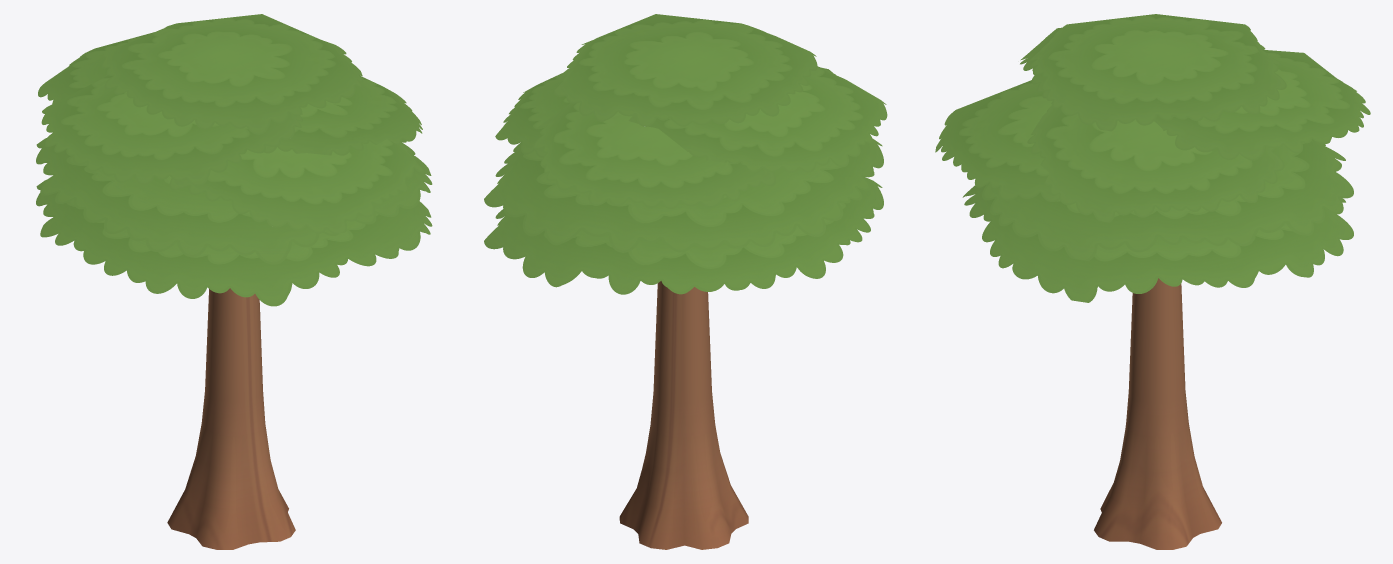
Rendered from treeElyse2.fbx.
3 renders of one model, left to right at view 1: azimuth 30°, elevation 25°; view 2: azimuth 150°, elevation 25°; view 3: azimuth 270°, elevation 25°, orthographic.
Visible parts, largest first — view 1: Cube, trunk_lowP.001; view 2: Cube, trunk_lowP.001; view 3: Cube, trunk_lowP.001.
Part boxes in pixels (x1,y1,x2,y2): Cube: (36,14,432,306); trunk_lowP.001: (167,288,295,549); Cube: (484,14,887,294); trunk_lowP.001: (619,281,748,549); Cube: (935,14,1370,302); trunk_lowP.001: (1094,278,1221,549).
Bounding box in the file's own units: 161 × 193 × 166.
